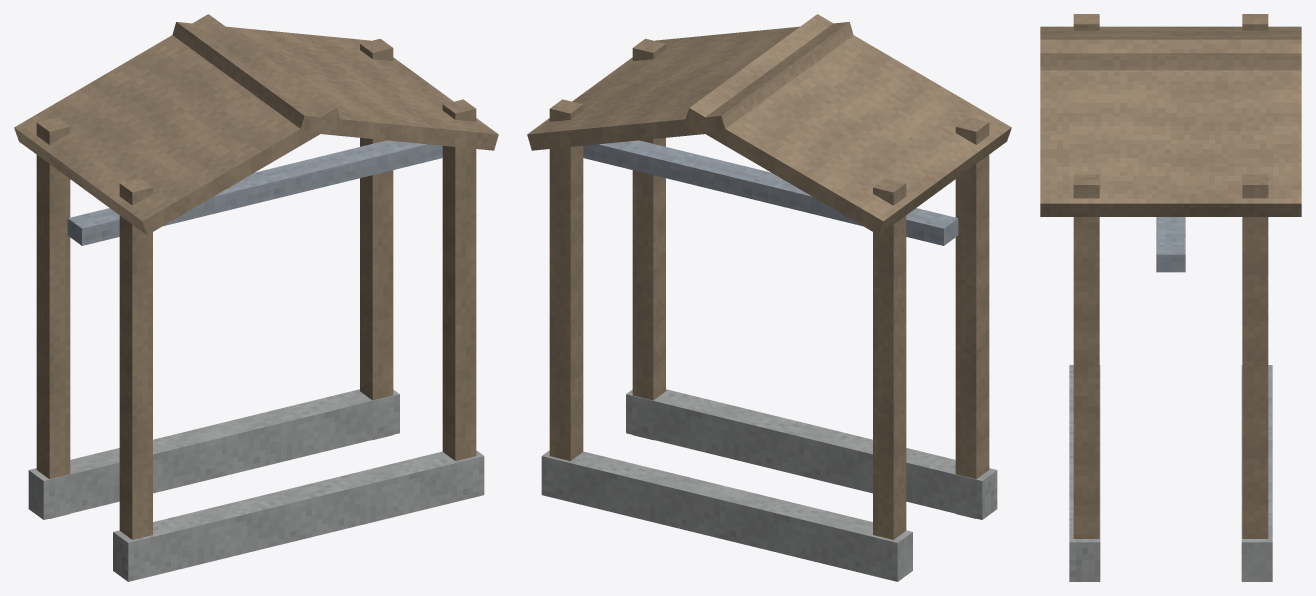
File: level_blockout_rail_station_canopy.glb
3 renders of one model, left to right at view 1: azimuth 30°, elevation 25°; view 2: azimuth 150°, elevation 25°; view 3: azimuth 270°, elevation 25°, orthographic.
Parts seen in each view (by area): view 1: level_blockout_rail_station_canopy; view 2: level_blockout_rail_station_canopy; view 3: level_blockout_rail_station_canopy.
Part boxes in pixels (x1=…): level_blockout_rail_station_canopy: x1=14, y1=14, x2=498, y2=581; level_blockout_rail_station_canopy: x1=527, y1=14, x2=1011, y2=581; level_blockout_rail_station_canopy: x1=1040, y1=14, x2=1301, y2=581.
Bounding box in the file's own units: 2.63 × 3.03 × 1.61.
3 materials, 3 textured.
